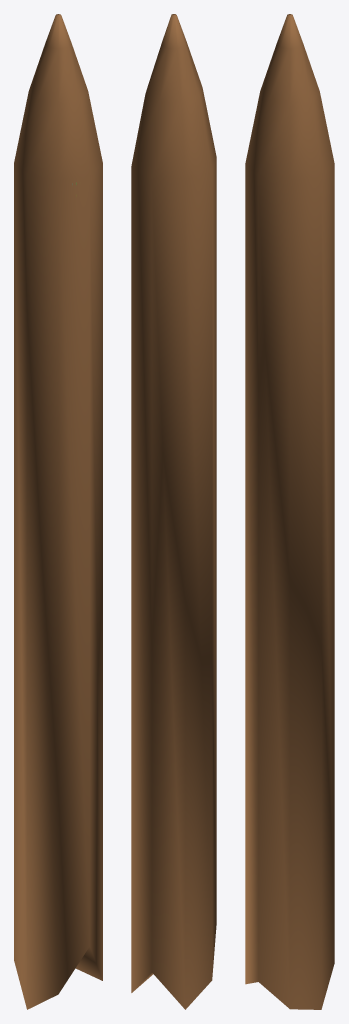
Rendered from WoodenStake.fbx.
The picture shows the model from 3 angles, left to right: view 1: azimuth 90°, elevation 25°; view 2: azimuth 150°, elevation 25°; view 3: azimuth 270°, elevation 25°; orthographic projection.
Visible parts, largest first — view 1: WoodenStake; view 2: WoodenStake; view 3: WoodenStake.
Part boxes in pixels (x1,y1,x2,y2): WoodenStake: [14, 14, 102, 1009]; WoodenStake: [131, 14, 216, 1009]; WoodenStake: [245, 14, 334, 1009].
Bounding box in the file's own units: 14.29 × 174 × 14.29.
